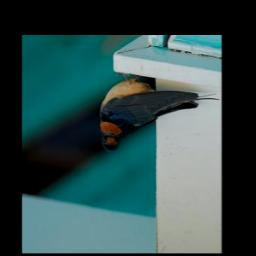Swallow: (96, 74, 219, 156)
